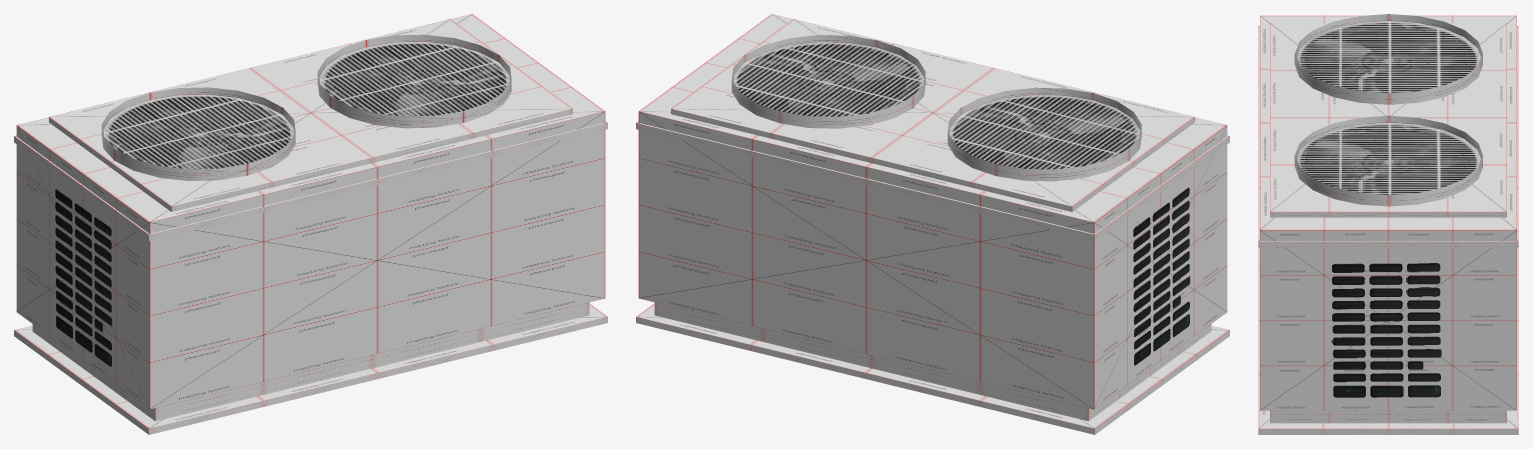
The model's file is rd3_vent.FBX.
3 views of the same model, side by side, from view 1: azimuth 30°, elevation 25°; view 2: azimuth 150°, elevation 25°; view 3: azimuth 270°, elevation 25° (orthographic). The views are drawn at different scales.
Parts seen in each view (by area): view 1: rd1_vent002; view 2: rd1_vent002; view 3: rd1_vent002.
Boxes of the visible parts, x1,y1,x2,y2 form: rd1_vent002: [14, 14, 607, 434]; rd1_vent002: [636, 14, 1229, 434]; rd1_vent002: [1258, 14, 1518, 434].
Bounding box in the file's own units: 10.56 × 5.38 × 5.02.
